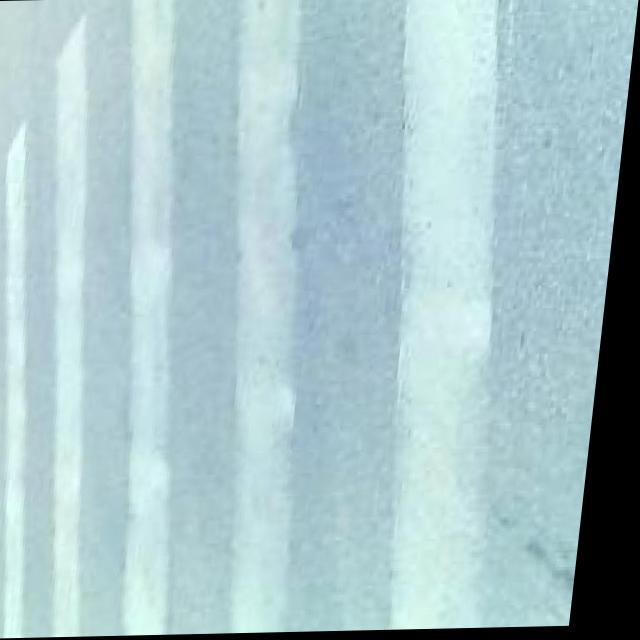zebra: (0, 21, 572, 640)
